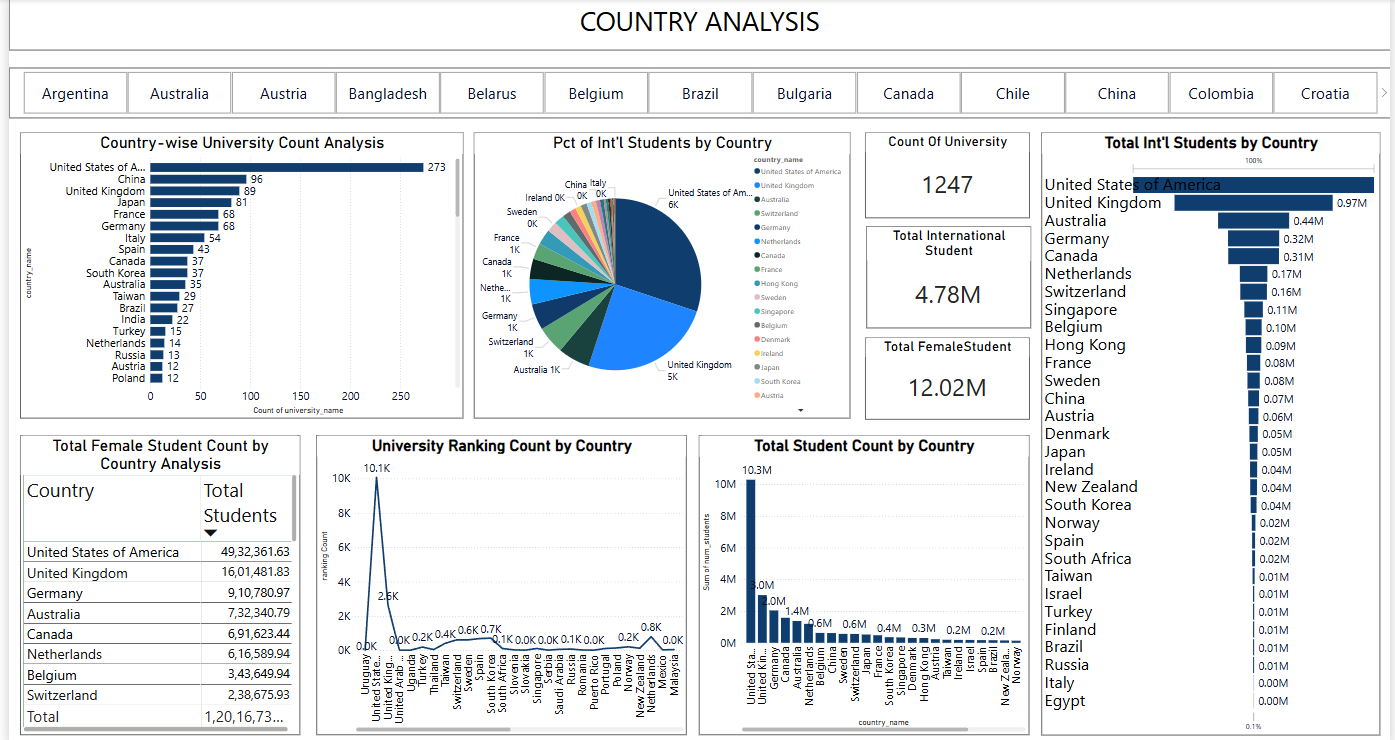

This screenshot's page, from the dashboard's own definition file:
{"tool":"powerbi","page":{"name":"Country Analysis","canvas":[2500,1350],"ordinal":1},"visuals":[{"type":"clusteredBarChart","title":"Country-wise University Count Analysis","fields":{"Category":["country.country_name"],"Y":["CountNonNull(university.university_name)"]},"box":[19.8,242.8,801.9,516.7],"z":0},{"type":"funnel","title":"Total Int''l Students by Country","fields":{"Category":["country.country_name"],"Y":["Sum(university_year.Total_Int_Student)"]},"box":[1869.1,243,613.2,1090.1],"z":1000},{"type":"pivotTable","title":"Total Female Student Count by Country Analysis","fields":{"Rows":["country.country_name"],"Values":["Sum(university_year.Total_female_student)"]},"box":[20.4,790.3,506.5,542.8],"z":2000},{"type":"lineChart","title":" University Ranking Count by Country","fields":{"Category":["country.country_name"],"Y":["CountNonNull(university_ranking_year.ranking_criteria_id)"]},"box":[556.4,790.3,670,542.8],"z":3000},{"type":"textbox","box":[0,0,2500.5,93.1],"z":6000},{"type":"pieChart","title":"Pct of Int''l Students by Country","fields":{"Category":["country.country_name"],"Y":["Sum(university_year.pct_international_students)"]},"box":[841.4,242.8,680.5,516.7],"z":7000},{"type":"clusteredColumnChart","title":"Total Student Count by Country","fields":{"Category":["country.country_name"],"Y":["Sum(university_year.num_students)"]},"box":[1249.1,790.3,597.3,542.8],"z":8000},{"type":"card","title":"Count Of University","fields":{"Values":["Count(university.university_name)"]},"box":[1548.9,243,297.5,154.4],"z":9000},{"type":"card","title":"Total International Student","fields":{"Values":["Sum(university_year.Total_Int_Student)"]},"box":[1551.1,411.1,297.5,184],"z":10000},{"type":"card","title":"Total FemaleStudent","fields":{"Values":["Sum(university_year.Total_female_student)"]},"box":[1548.9,613.2,297.5,147.6],"z":11000},{"type":"slicer","title":"Select Country","fields":{"Values":["country.country_name"]},"box":[0,124.9,2500.5,90.8],"z":12001}]}

Visuals, with their boxes in screenshot pixels (x1, y1, x2, y2), scaled from the page's 2500x1350 canvas onto the 1395x740 screenshot:
"Country-wise University Count Analysis" clusteredBarChart: Rect(11, 133, 459, 416)
"Total Int''l Students by Country" funnel: Rect(1043, 133, 1385, 731)
"Total Female Student Count by Country Analysis" pivotTable: Rect(11, 433, 294, 731)
" University Ranking Count by Country" lineChart: Rect(310, 433, 684, 731)
textbox: Rect(0, 0, 1394, 51)
"Pct of Int''l Students by Country" pieChart: Rect(470, 133, 849, 416)
"Total Student Count by Country" clusteredColumnChart: Rect(697, 433, 1030, 731)
"Count Of University" card: Rect(864, 133, 1030, 218)
"Total International Student" card: Rect(866, 225, 1032, 326)
"Total FemaleStudent" card: Rect(864, 336, 1030, 417)
"Select Country" slicer: Rect(0, 68, 1394, 118)
